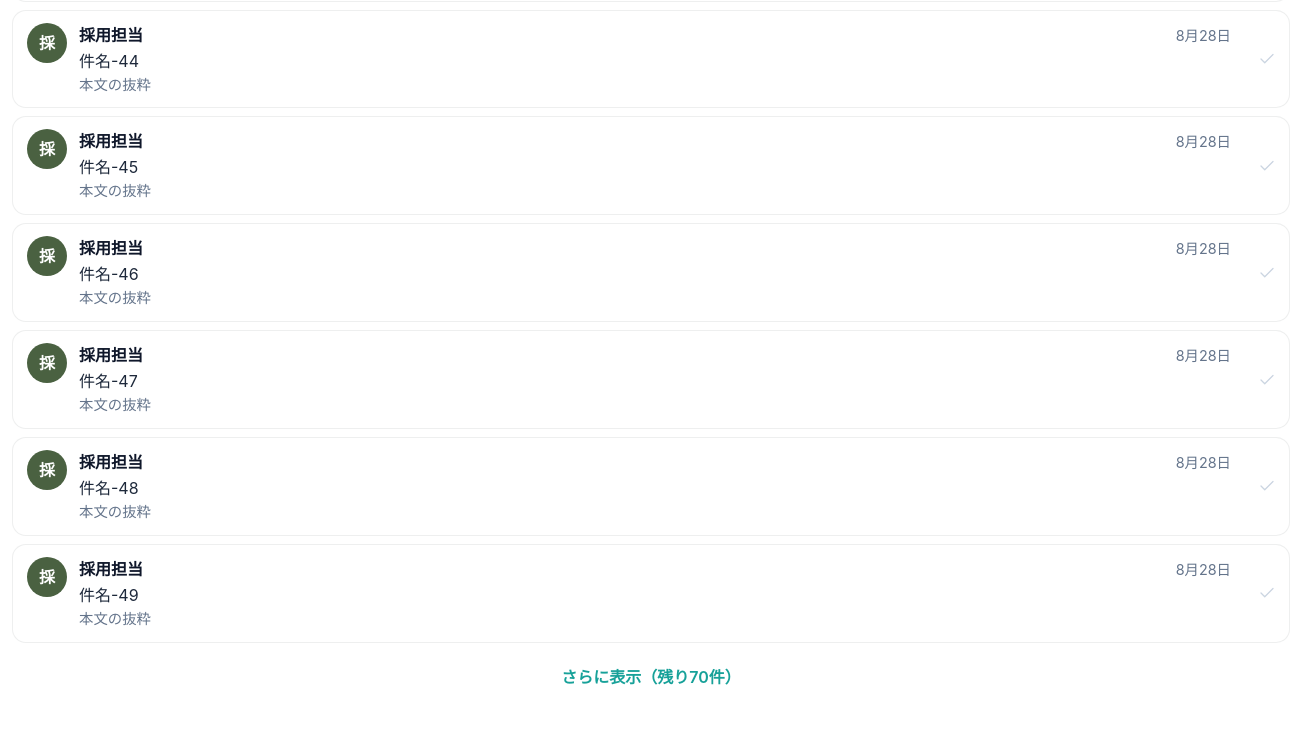
Scenario: メール一覧の件数の区切り(iPhone で一覧ごと消える不具合の対策) › 先頭の50通だけ並べ、「さらに表示」で足していく
The width and height of the screenshot is (1304, 755).
(page scrolled)
Click the button "さらに表示（残り70件）".
click(651, 677)  # box x1=12 y1=655 x2=1290 y2=699
(page scrolled)
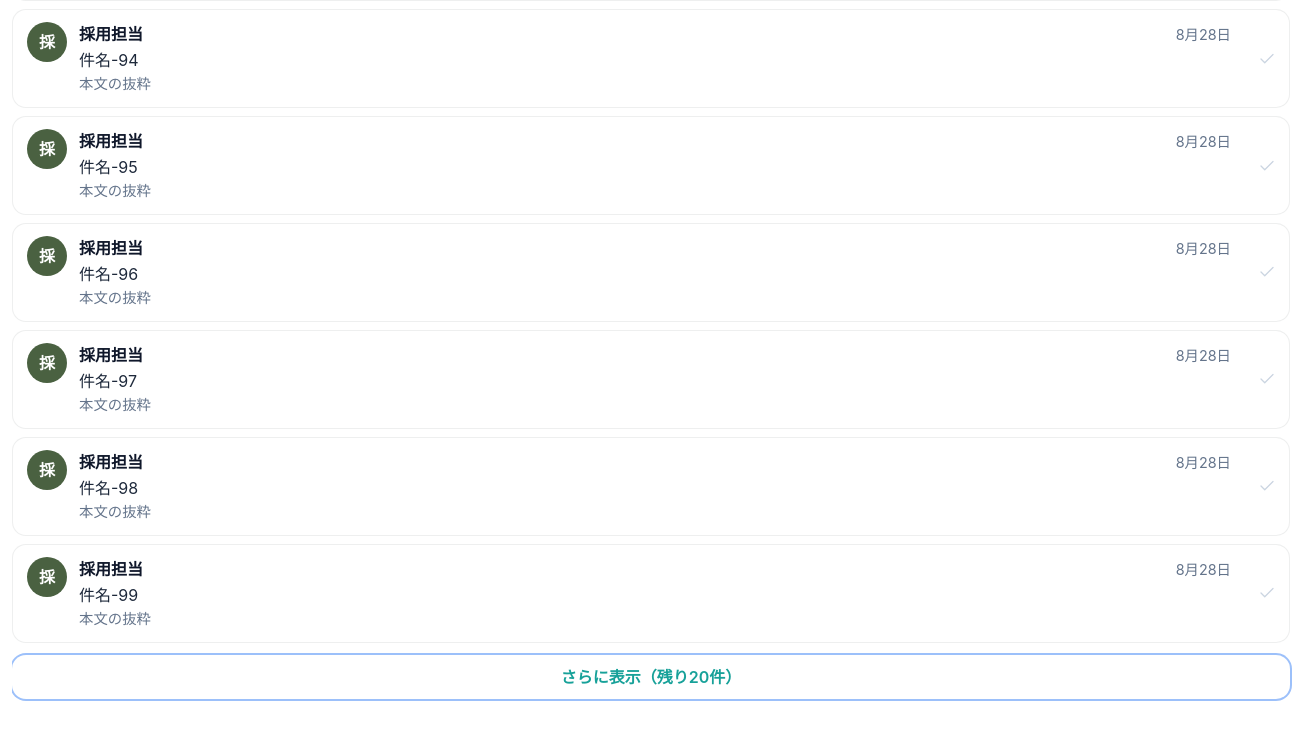
Click the button "さらに表示（残り20件）".
click(651, 676)  # box x1=12 y1=654 x2=1290 y2=698
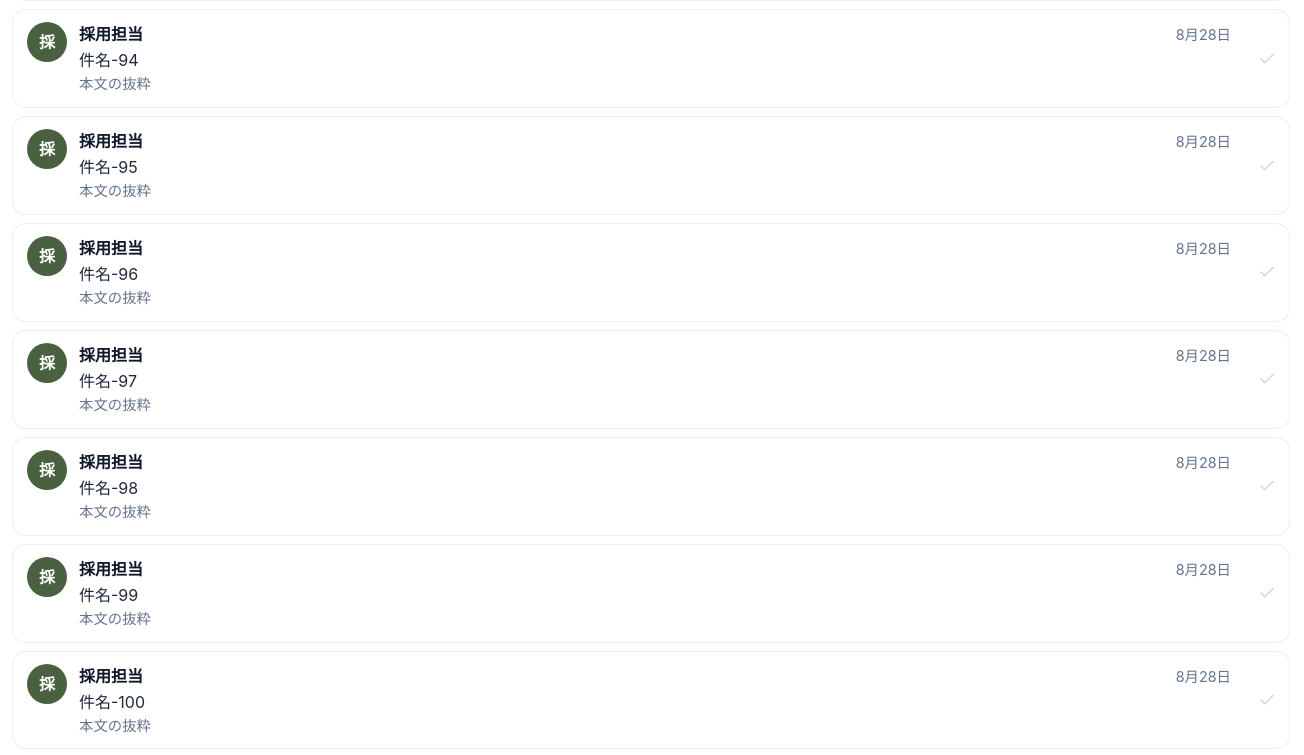
Expected: the button "さらに表示" is gone
